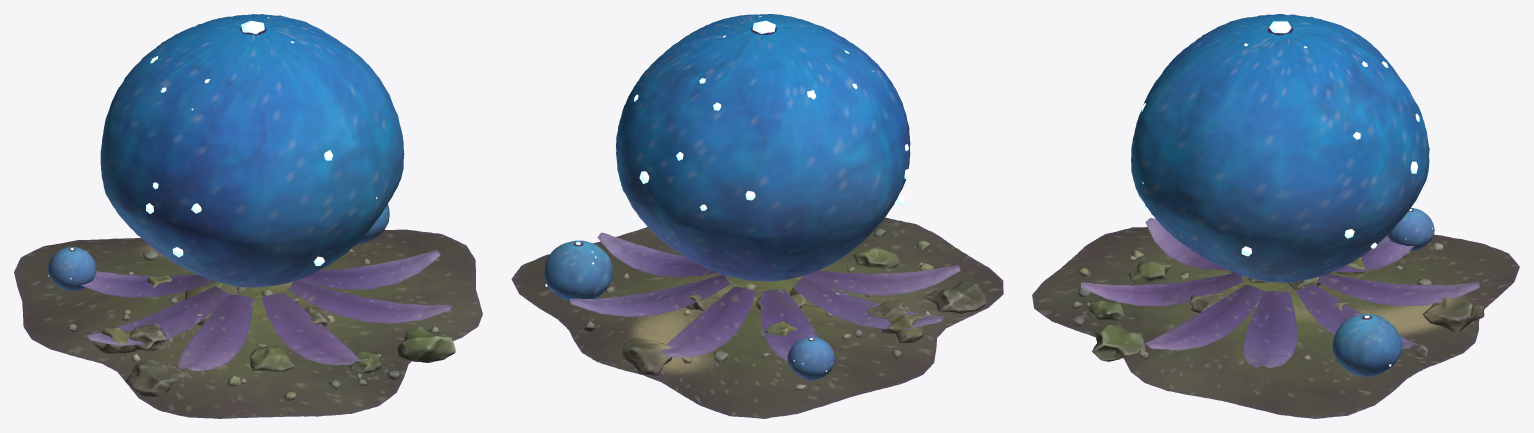
The model's file is mantar_mavi_patlak.glb.
3 renders of one model, left to right at view 1: azimuth 30°, elevation 25°; view 2: azimuth 150°, elevation 25°; view 3: azimuth 270°, elevation 25°, orthographic. The views are drawn at different scales.
Visible parts, largest first — view 1: mantar_mavi_patlak_govde, mantar_mavi_patlak_LOD0; view 2: mantar_mavi_patlak_govde, mantar_mavi_patlak_LOD0; view 3: mantar_mavi_patlak_govde, mantar_mavi_patlak_LOD0.
Part boxes in pixels (x1,y1,x2,y2): mantar_mavi_patlak_govde: (100,14,404,287); mantar_mavi_patlak_LOD0: (14,204,482,418); mantar_mavi_patlak_govde: (616,14,912,281); mantar_mavi_patlak_LOD0: (511,217,1003,418); mantar_mavi_patlak_govde: (1131,14,1429,282); mantar_mavi_patlak_LOD0: (1032,208,1519,418).
Size of what is drawn, in the model's own units: 1.1 by 0.7449 by 1.12.
